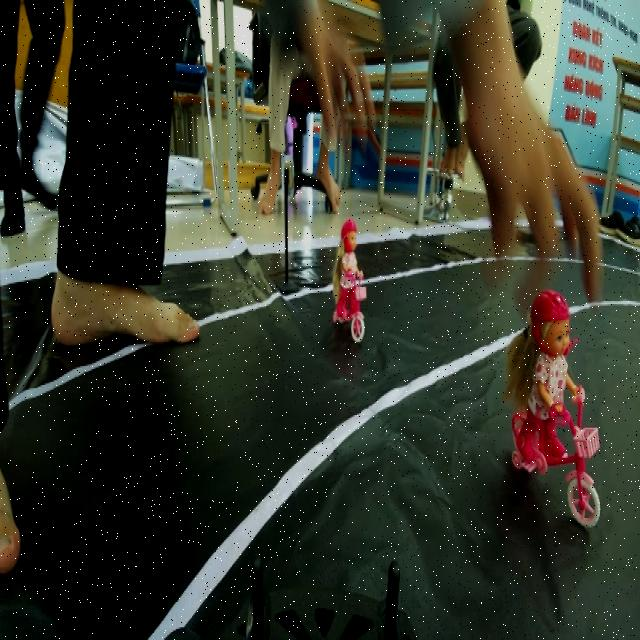pedestrian: (506, 290, 597, 542), (327, 220, 373, 336)
